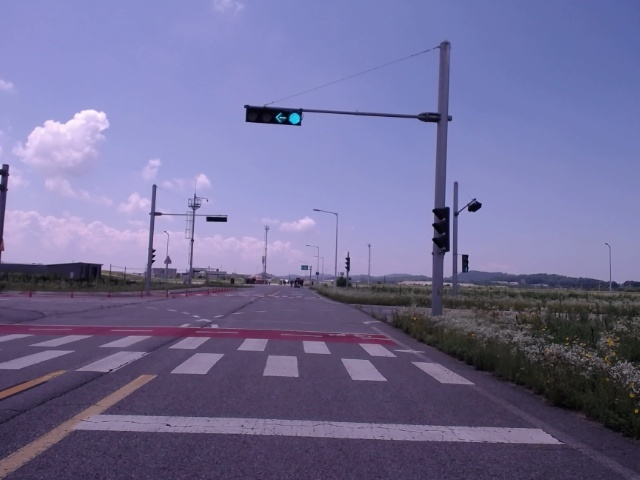all_green_4: (243, 105, 307, 124)
